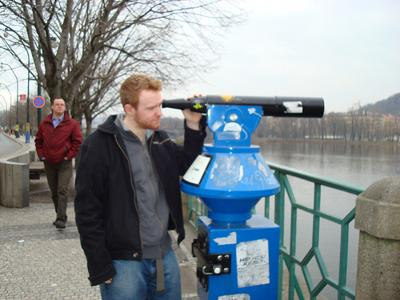person: (75, 74, 207, 300)
